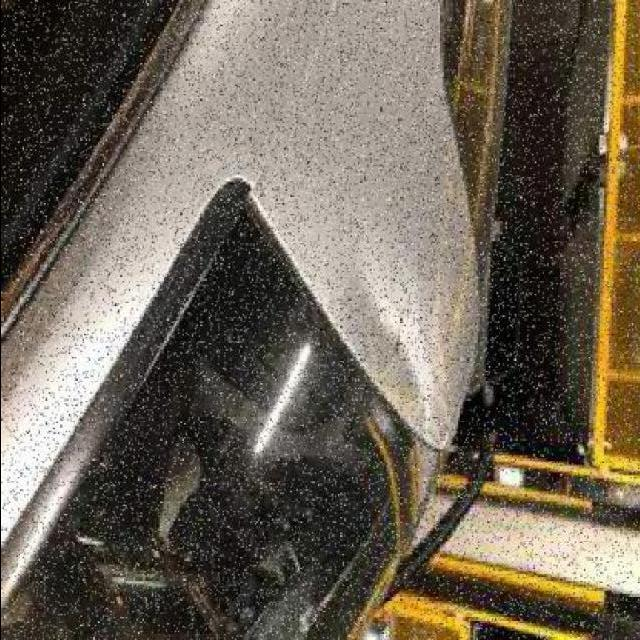roof-dent: (290, 0, 495, 464)
